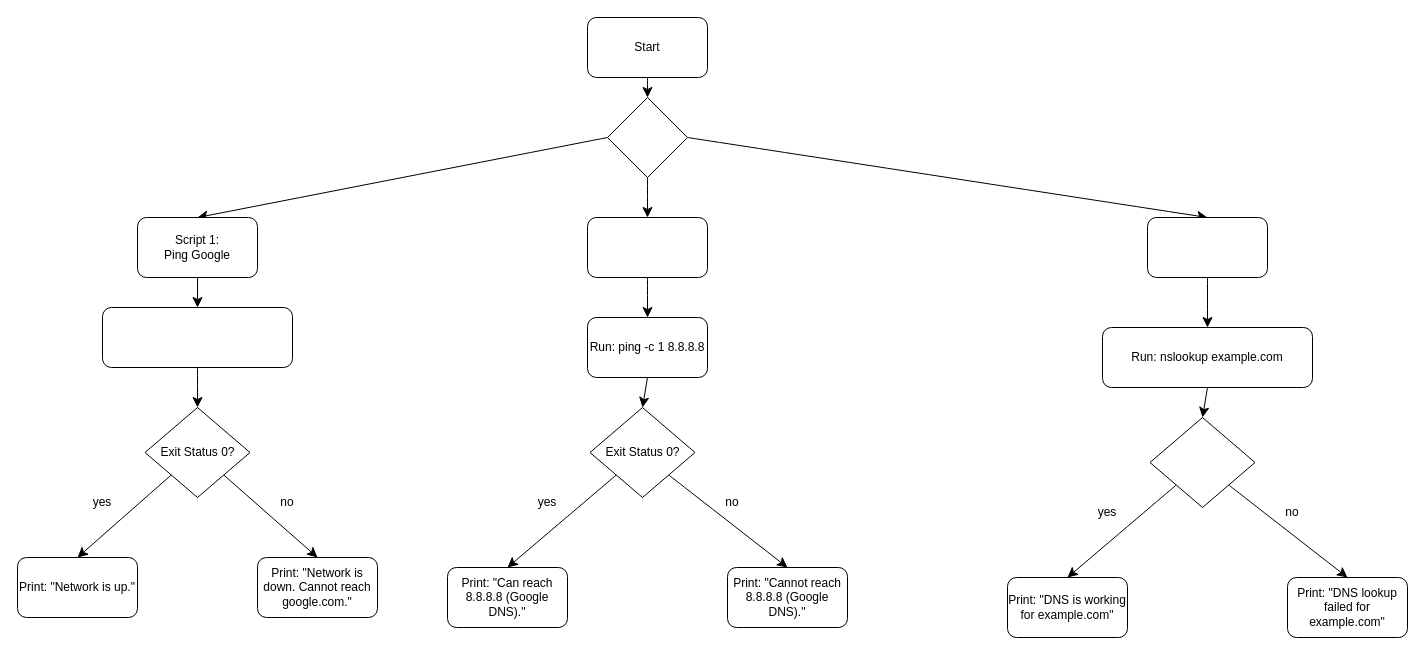
The diagram is 1425 pixels wide and 655 high, and some of its shapes have lost their labels. The centre of each missing label's shape, as x and y in pixels:
Resolved IP found?: [1202,462]
Run: ping -c 1 google.com: [197,337]
Script 2: Ping 8.8.8.8: [647,247]
Script 3: nslookup example.com: [1207,247]
Which script?: [647,137]
